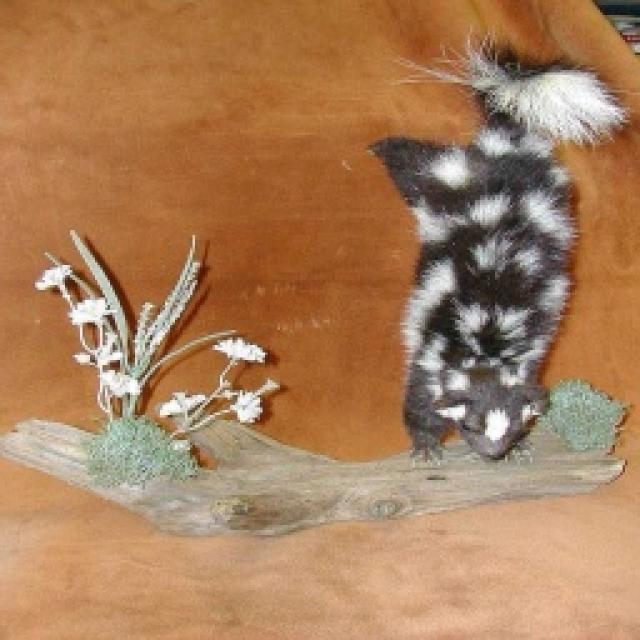Skunk: (372, 25, 614, 480)
